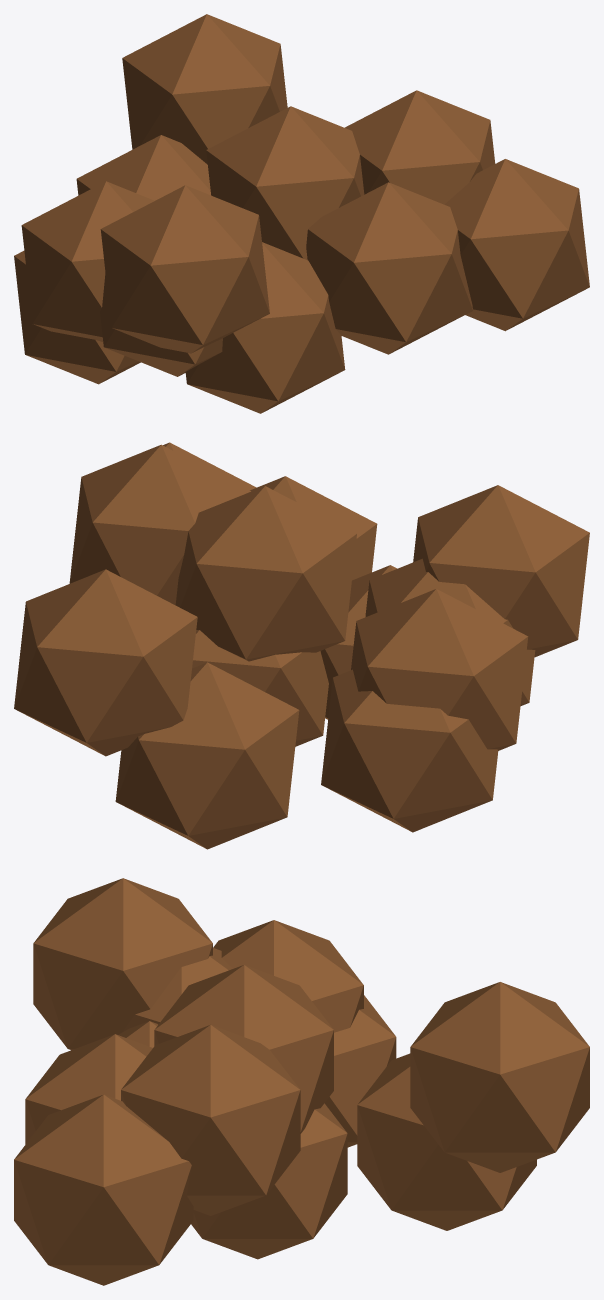
The model's file is kibble.glb.
The picture shows the model from 3 angles, top to bottom: view 1: azimuth 30°, elevation 25°; view 2: azimuth 150°, elevation 25°; view 3: azimuth 270°, elevation 25°; orthographic projection. The views are drawn at different scales.
Visible parts, largest first — view 1: kibble; view 2: kibble; view 3: kibble.
Part boxes in pixels (x1,y1,x2,y2): kibble: [14, 14, 589, 413]; kibble: [14, 442, 589, 849]; kibble: [14, 878, 589, 1285].
Size of the model in its own units: 0.0684 by 0.036 by 0.0655.
